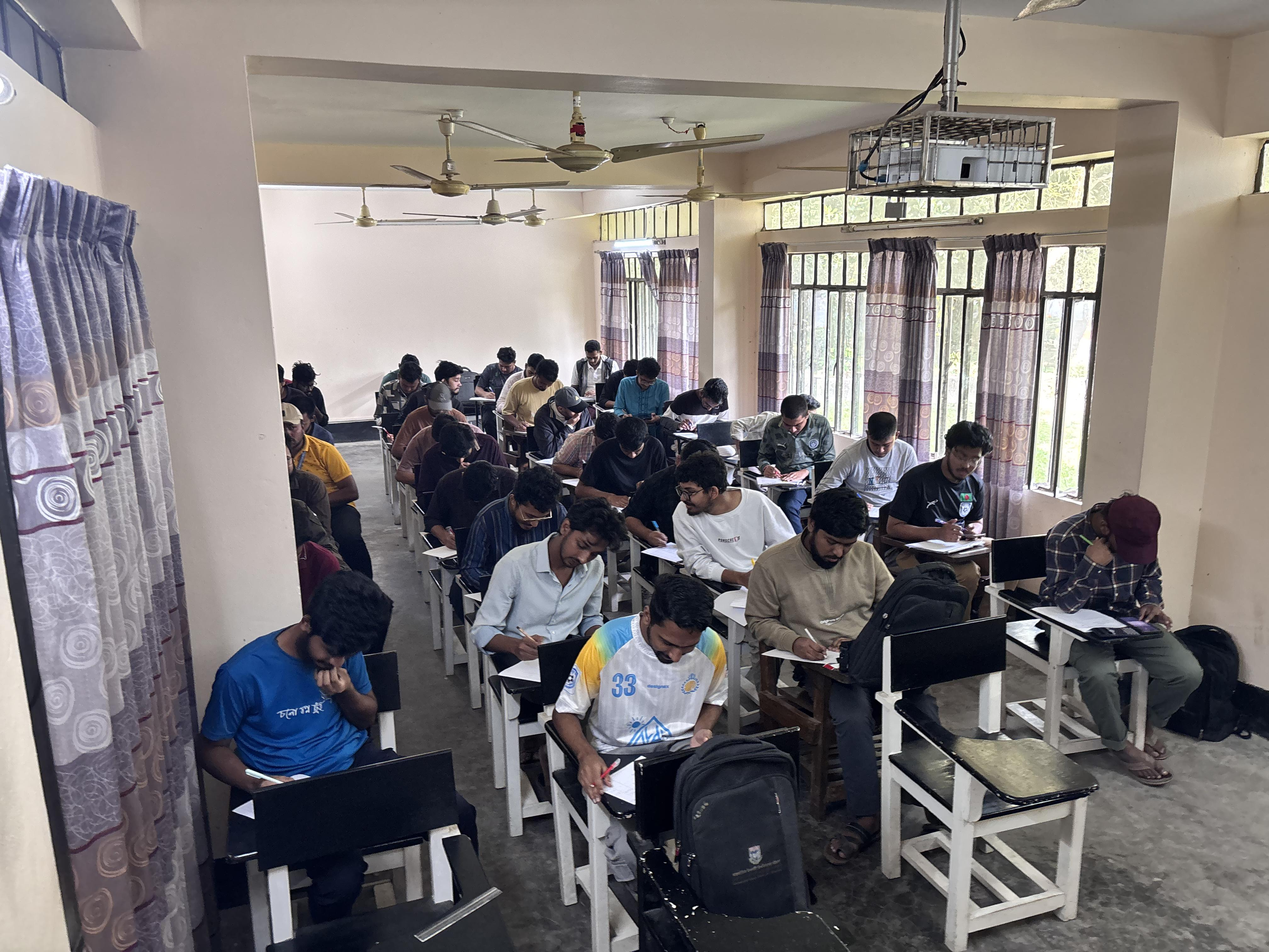copying: (659, 453, 773, 563)
no_cheating: (186, 612, 426, 865), (477, 501, 625, 667), (760, 513, 883, 671), (445, 473, 559, 550), (831, 415, 909, 523), (751, 398, 833, 482), (603, 415, 671, 486), (672, 377, 739, 447), (617, 360, 685, 422), (282, 399, 336, 476), (540, 390, 596, 448), (573, 335, 618, 393), (426, 429, 489, 468), (518, 361, 564, 414), (411, 380, 460, 421), (504, 349, 539, 382), (486, 346, 516, 373)
using_phone: (552, 582, 726, 806), (1028, 487, 1179, 699), (895, 437, 1021, 583)
